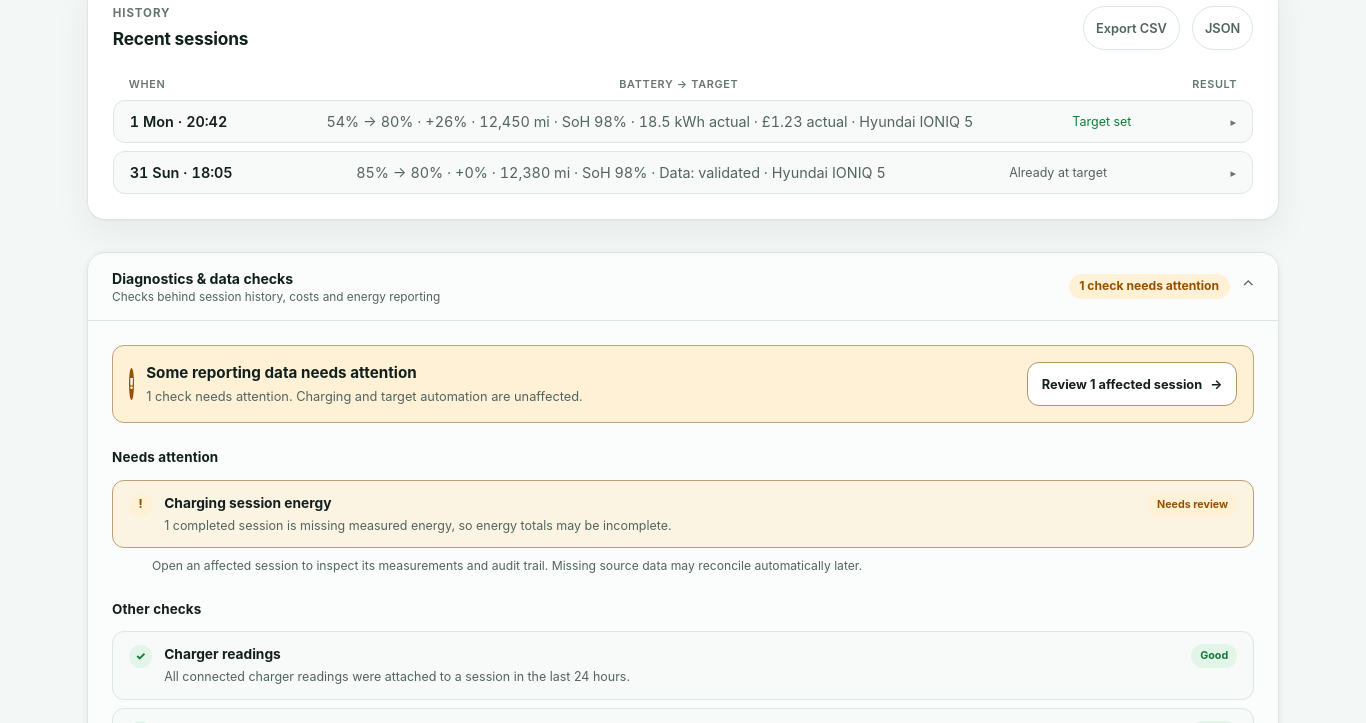
Scenario: Dashboard integration › opens affected session records from diagnostics and moves focus to history
(page scrolled)
Click the button "Review 1 affected session →" at [1132, 384], box [1027,362,1237,406]
(page scrolled)
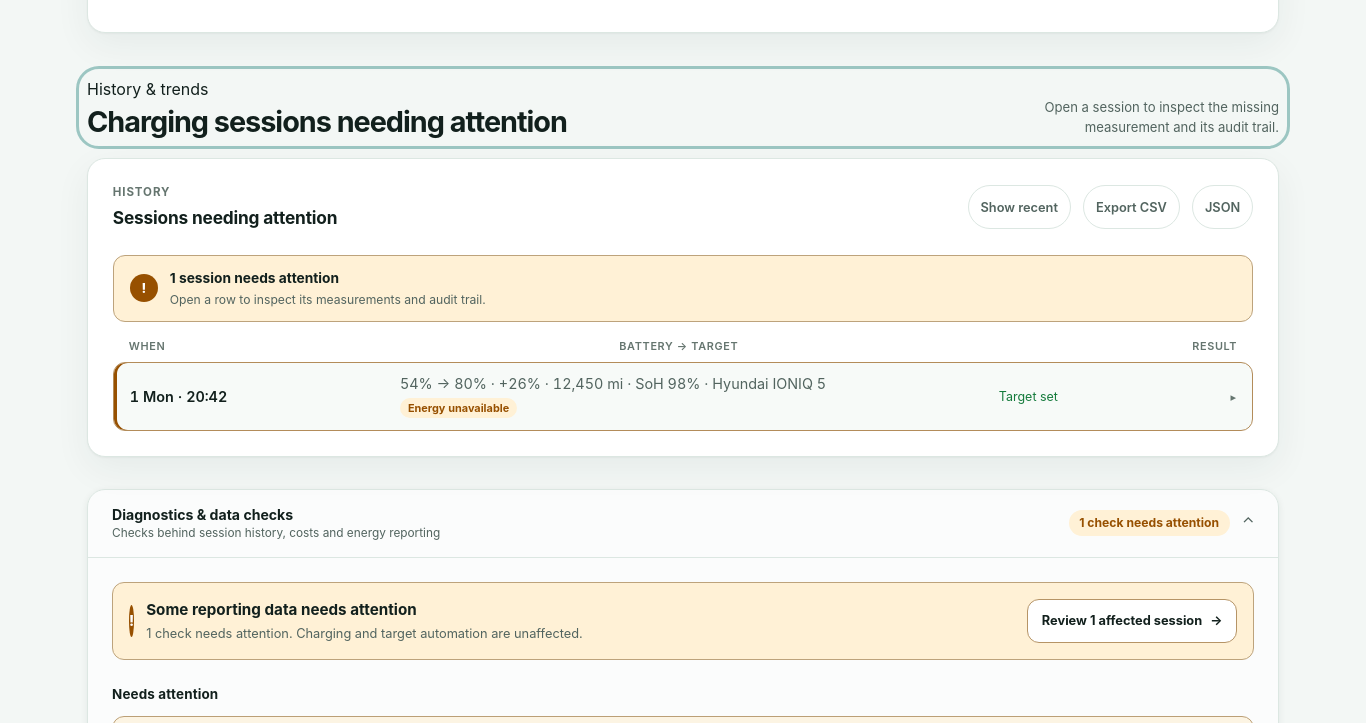
Now the heading "Charging sessions needing attention" is shown, box [87,105,567,138]
Now the heading "Sessions needing attention" is shown, box [113,205,337,231]
Now the text "Energy unavailable" is shown, box [400,398,517,418]
